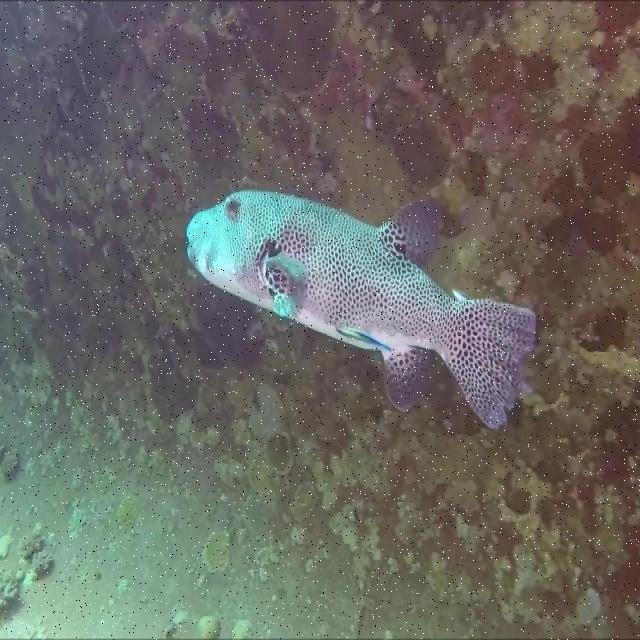fish: (185, 189, 538, 432)
